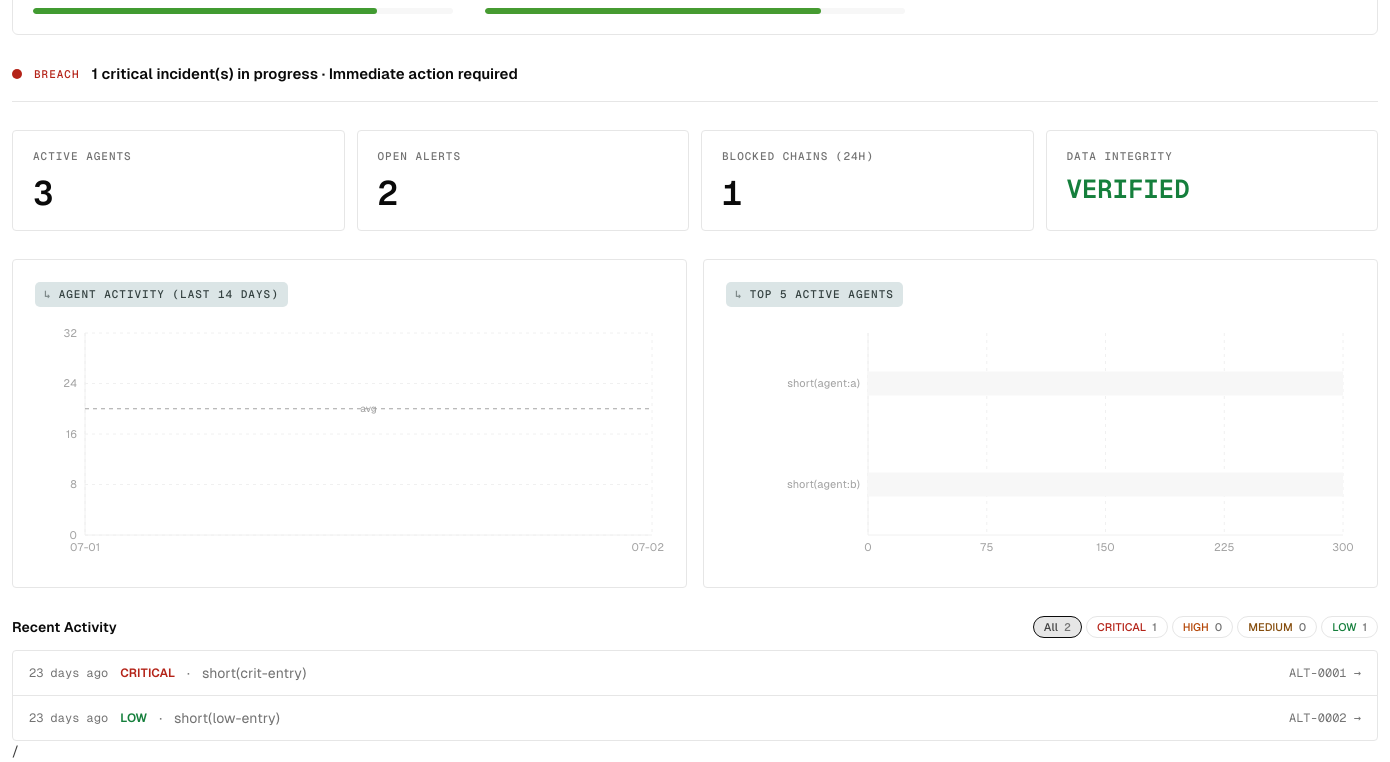
Test case: FleetStatusPage — recent activity feed › filters the feed by severity chip and resets on second click
(page scrolled)
Check: the button named "All 2" is shown, box [1033,616,1082,638]
Step 1. Click the button named "CRITICAL 1" → (1127, 627), box [1086,616,1168,638]
(page scrolled)
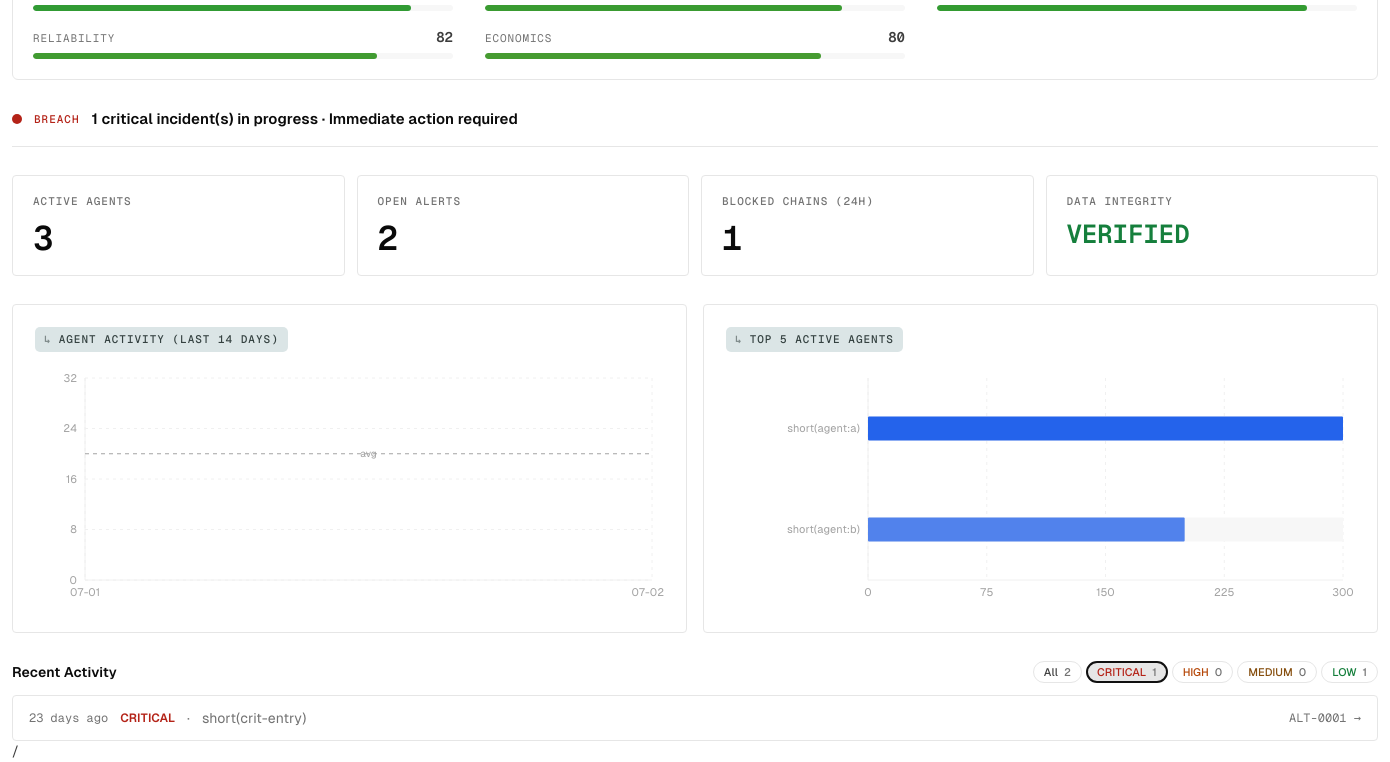
Check: the text "short(crit-entry)" is shown, box [202,708,306,728]
Check: the text "short(low-entry)" is gone
# Clicking the active chip resets back to "all".
Step 2. Click the button named "CRITICAL 1" → (1127, 672), box [1086,661,1168,683]
(page scrolled)
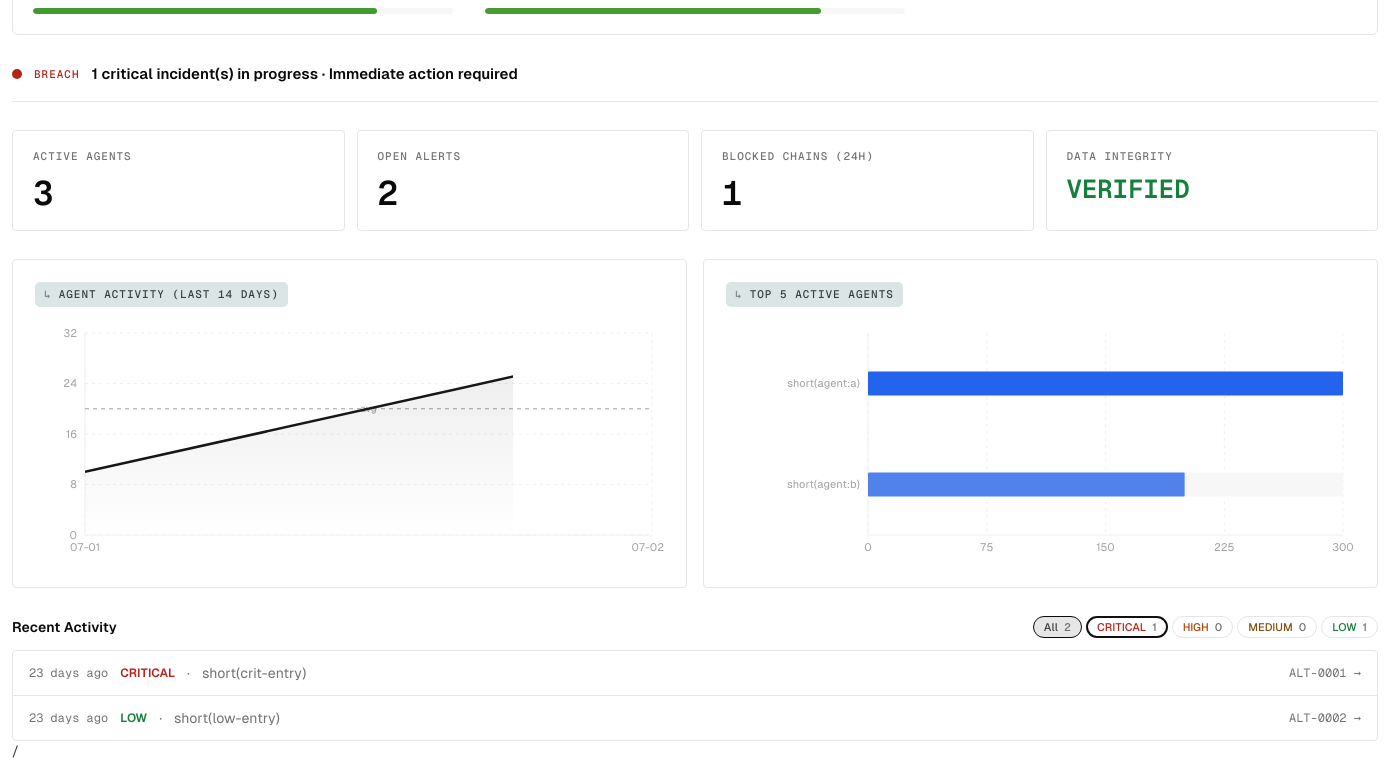
Check: the text "short(low-entry)" is shown, box [174,708,280,728]
